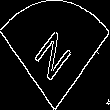N_SW: (32, 23, 78, 87)
